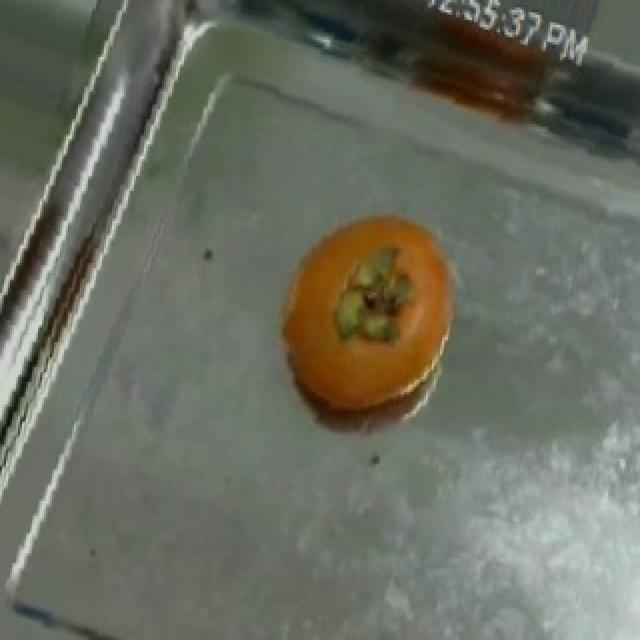Fruit: (260, 188, 474, 432)
